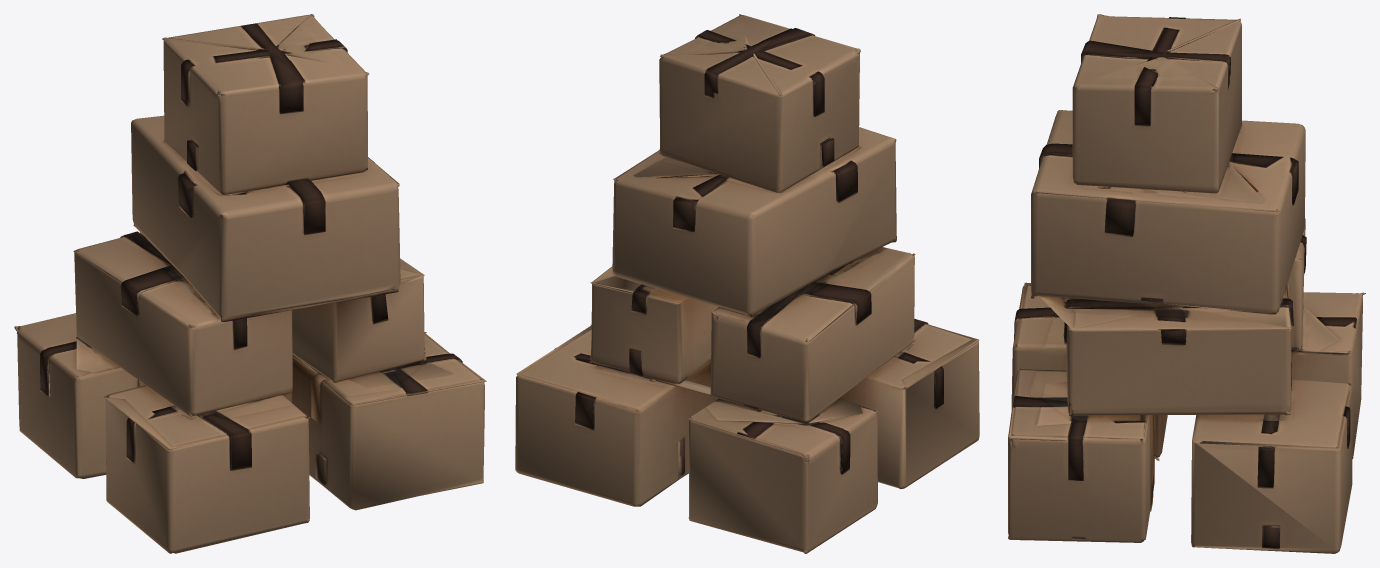
Rendered from prop_boxes.glb.
3 views of the same model, side by side, from view 1: azimuth 30°, elevation 25°; view 2: azimuth 150°, elevation 25°; view 3: azimuth 270°, elevation 25° (orthographic). The views are drawn at different scales.
Parts seen in each view (by area): view 1: tripo_node_35b82a4c-a62d-4c67-85ec-1c25ccced253; view 2: tripo_node_35b82a4c-a62d-4c67-85ec-1c25ccced253; view 3: tripo_node_35b82a4c-a62d-4c67-85ec-1c25ccced253.
Boxes of the visible parts, <box> form: tripo_node_35b82a4c-a62d-4c67-85ec-1c25ccced253: <box>14,14,486,553</box>; tripo_node_35b82a4c-a62d-4c67-85ec-1c25ccced253: <box>515,14,979,553</box>; tripo_node_35b82a4c-a62d-4c67-85ec-1c25ccced253: <box>1008,14,1365,553</box>.
Bounding box in the file's own units: 0.834 × 0.998 × 0.7676.
1 material, 1 textured.
